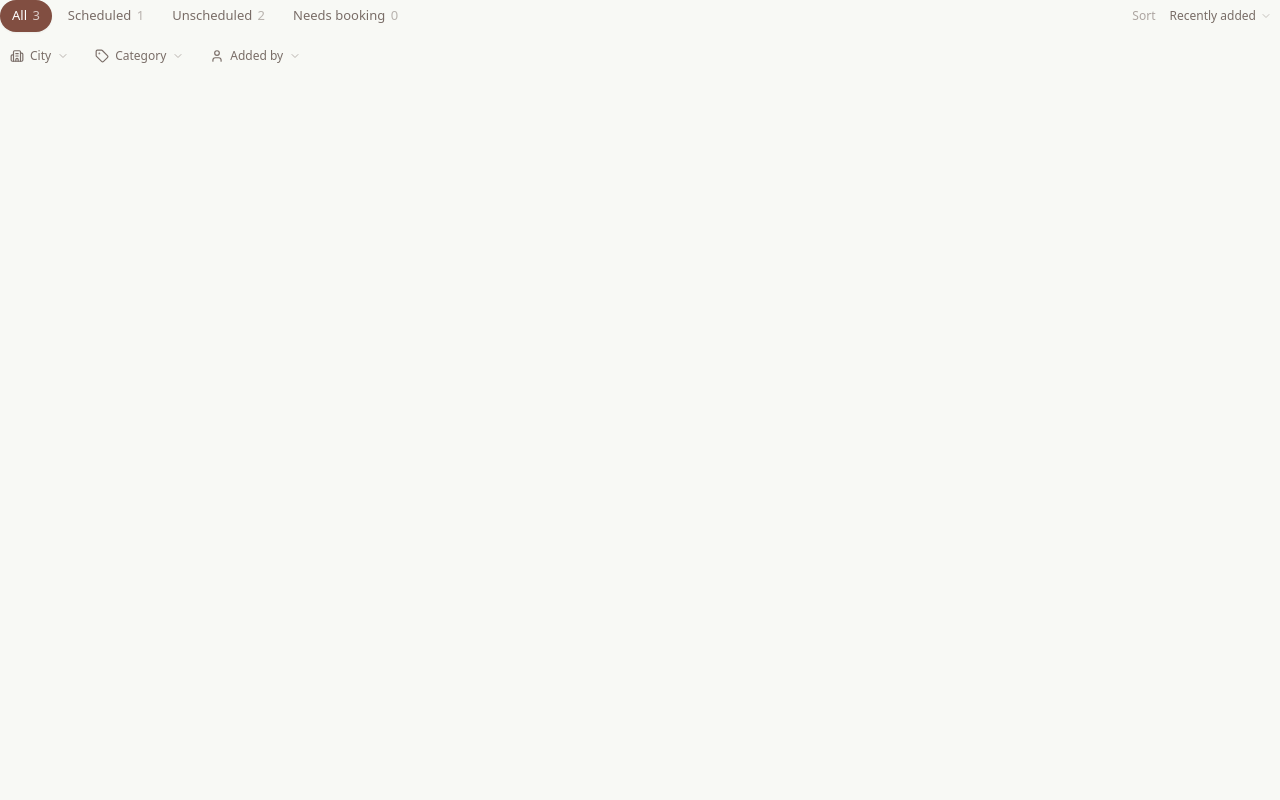
Test case: LocationsFilterToolbar — read-only does NOT render group-by › edit mode: group-by controls appear inside the City popover
Click the button "City" at (40,56), box [0,44,79,68]
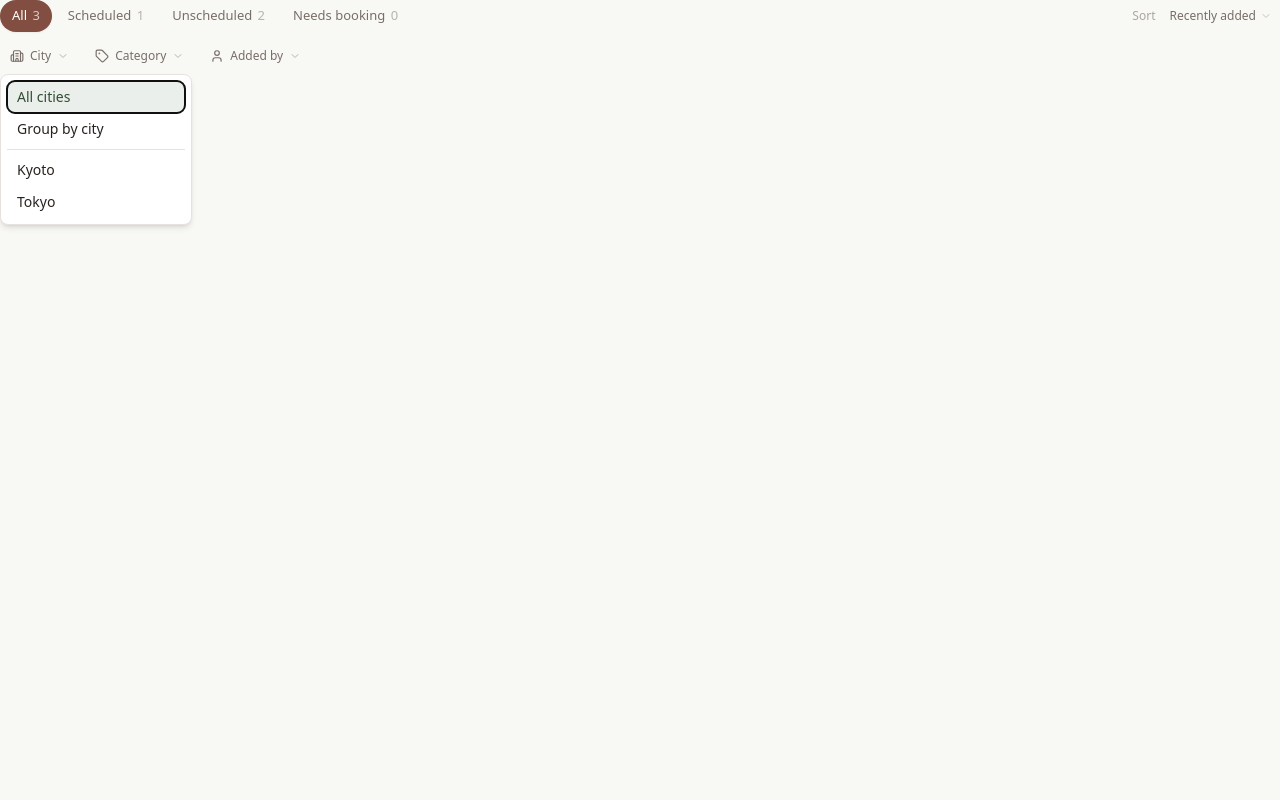
Result: the button "Group by city" is shown at [7,113,185,145]
